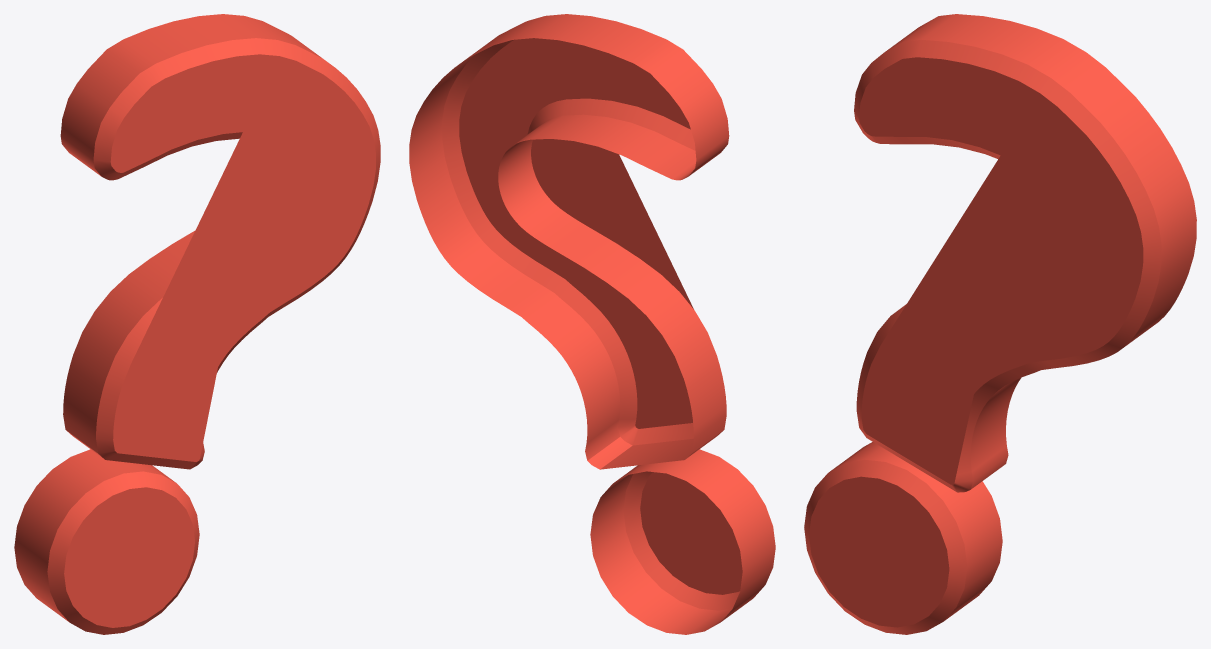
The model's file is Question Icon Multi.fbx.
3 renders of one model, left to right at view 1: azimuth 30°, elevation 25°; view 2: azimuth 150°, elevation 25°; view 3: azimuth 330°, elevation 25°, orthographic. The views are drawn at different scales.
Parts seen in each view (by area): view 1: Question Icon; view 2: Question Icon; view 3: Question Icon.
Boxes of the visible parts, x1,y1,x2,y2 form: Question Icon: (14, 14, 380, 634); Question Icon: (409, 14, 775, 634); Question Icon: (804, 14, 1196, 634).
Bounding box in the file's own units: 0.3363 × 0.5466 × 0.0684.
